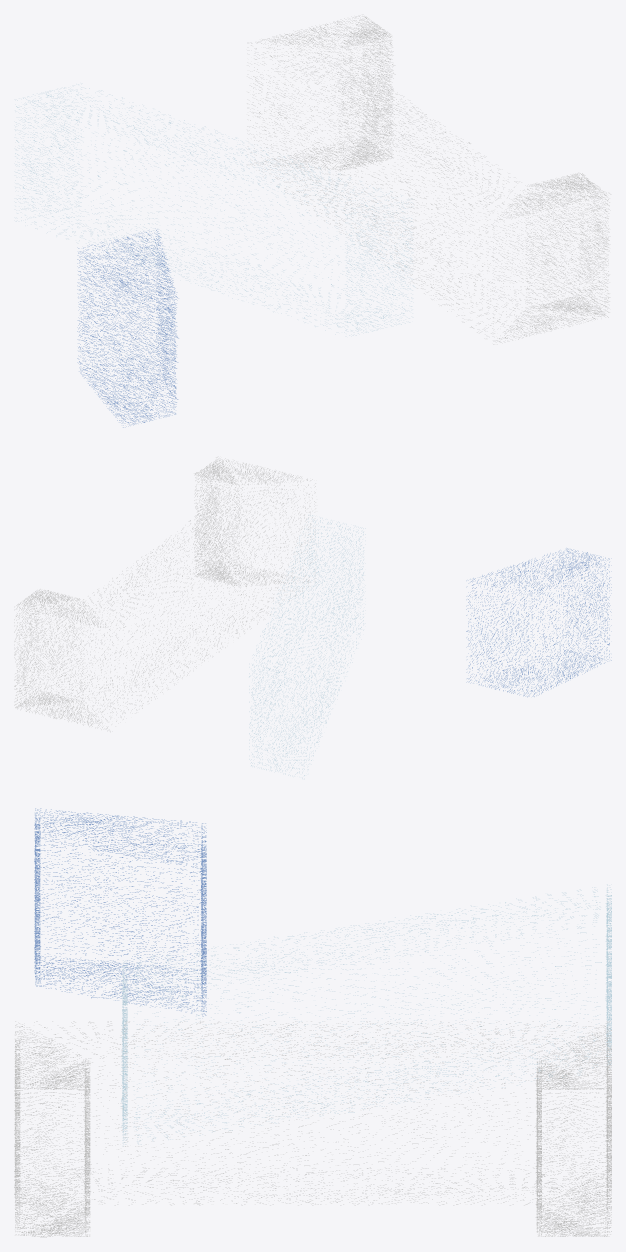
3 views of the same model, one above another, from view 1: azimuth 30°, elevation 25°; view 2: azimuth 150°, elevation 25°; view 3: azimuth 270°, elevation 25° (orthographic). The views are drawn at different scales.
Parts seen in each view (by area): view 1: 65e0f86b14b5e75ad0ee8b07, 65e0f86b14b5e75ad0ee8b07.001, 65e0f86b14b5e75ad0ee8b07.002; view 2: 65e0f86b14b5e75ad0ee8b07, 65e0f86b14b5e75ad0ee8b07.001, 65e0f86b14b5e75ad0ee8b07.002; view 3: 65e0f86b14b5e75ad0ee8b07, 65e0f86b14b5e75ad0ee8b07.001, 65e0f86b14b5e75ad0ee8b07.002.
Boxes of the visible parts, x1,y1,x2,y2 form: 65e0f86b14b5e75ad0ee8b07: (247,14,611,344); 65e0f86b14b5e75ad0ee8b07.001: (14,83,415,336); 65e0f86b14b5e75ad0ee8b07.002: (77,228,178,427); 65e0f86b14b5e75ad0ee8b07: (14,456,316,732); 65e0f86b14b5e75ad0ee8b07.001: (249,515,365,779); 65e0f86b14b5e75ad0ee8b07.002: (466,548,611,697); 65e0f86b14b5e75ad0ee8b07: (14,1021,611,1237); 65e0f86b14b5e75ad0ee8b07.001: (121,884,611,1146); 65e0f86b14b5e75ad0ee8b07.002: (34,808,206,1016).
Size of the model in its own units: 4.71 by 1.14 by 4.21.
